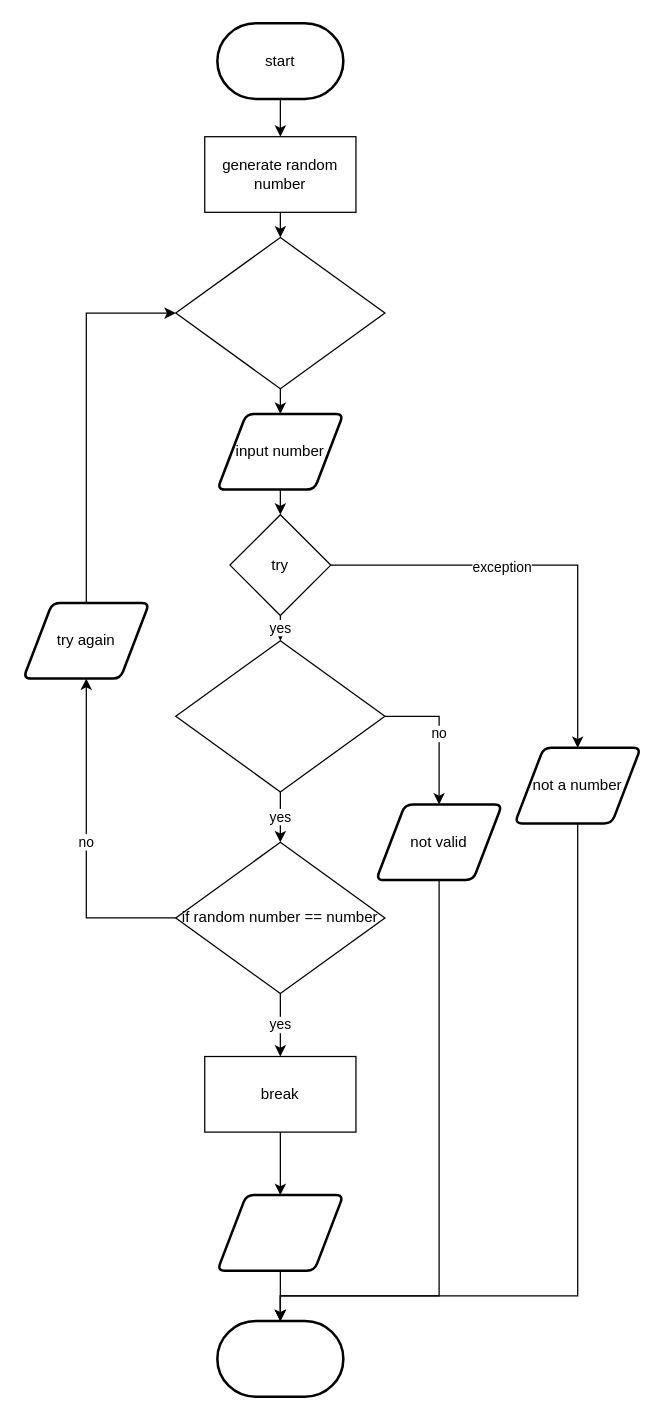
The diagram is 663 pixels wide and 1419 high, and some of its shapes have lost their labels. Here are the shapes that lost their labels. From the top down, the centre of each, then its label:
the point at 280,312: while (True)
the point at 280,715: if number is > 0 and < 9
the point at 279,1232: you win!
the point at 279,1358: end
